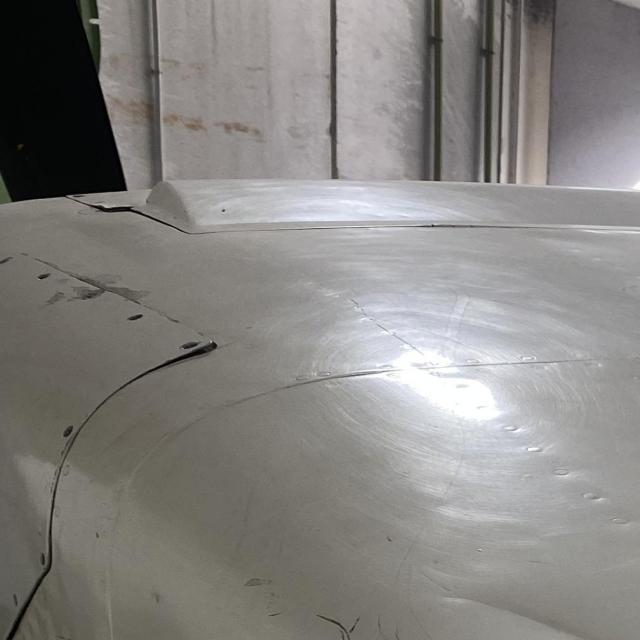Dent: (415, 558, 640, 640)
Paint-off: (80, 276, 143, 299), (43, 283, 72, 306)
